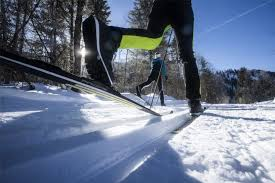skis: (1, 51, 166, 119)
